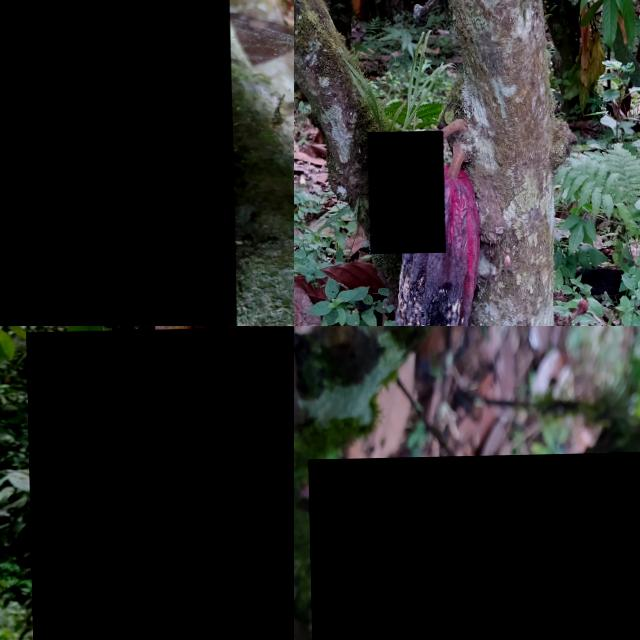Fitoftora: (0, 0, 235, 326)
Monilia: (26, 328, 294, 640), (307, 451, 640, 640), (385, 172, 482, 326), (367, 132, 444, 255)
